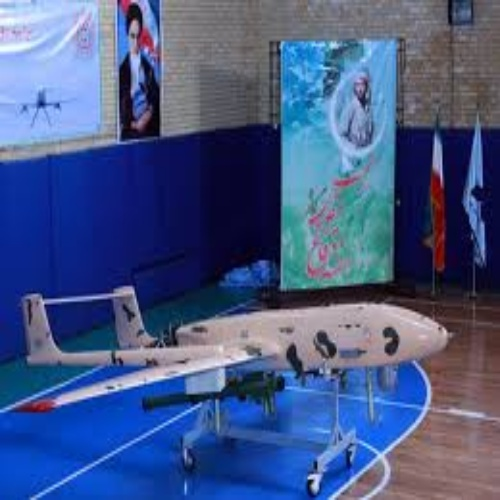uav: (18, 284, 455, 428)
